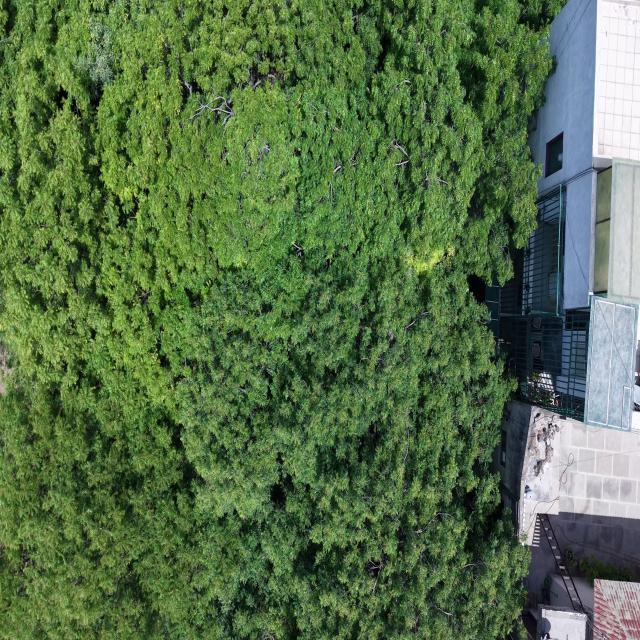ROOFTOP_BUILDING: (485, 0, 639, 592), (486, 0, 639, 543), (486, 0, 639, 431), (536, 580, 639, 639), (594, 580, 639, 639), (537, 605, 588, 639)
VEGETATION_TREE: (0, 0, 559, 639), (580, 555, 632, 586)
